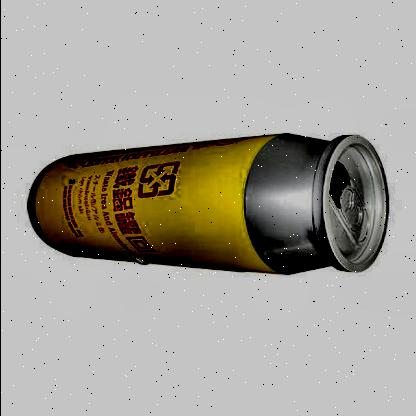Can: (23, 126, 395, 280)
